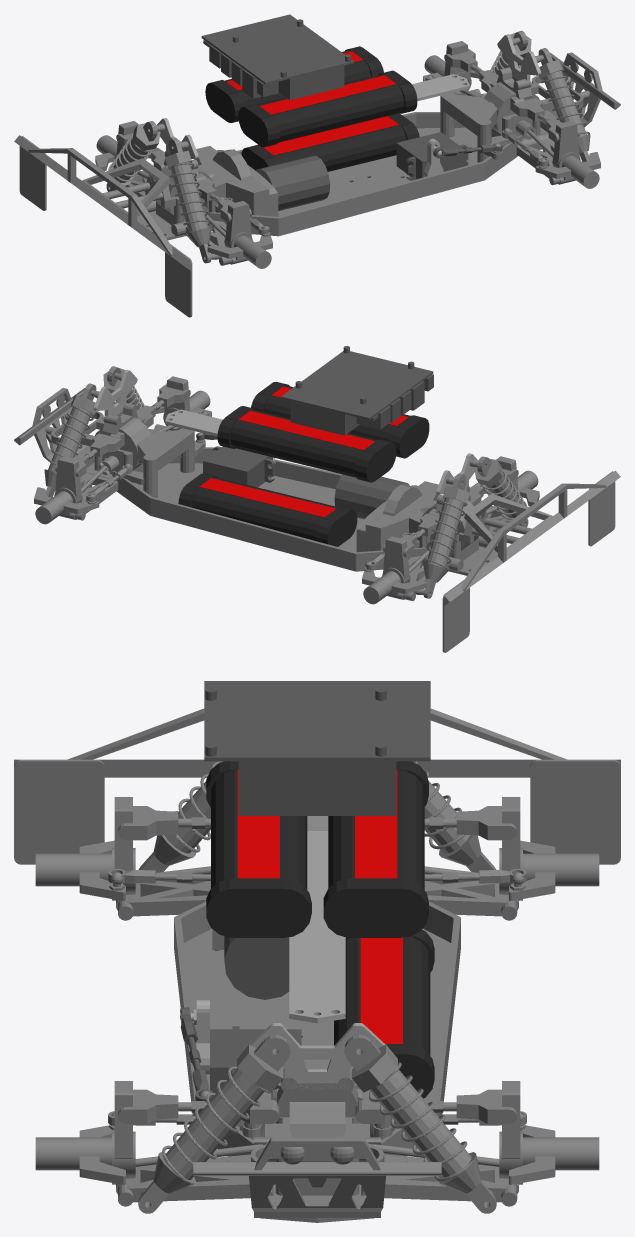
The model's file is mushr_base_nano_core.dae.
The picture shows the model from 3 angles, top to bottom: view 1: azimuth 30°, elevation 25°; view 2: azimuth 150°, elevation 25°; view 3: azimuth 270°, elevation 25°; orthographic projection. The views are drawn at different scales.
Parts seen in each view (by area): view 1: Racecar_Chassis, Racecar_Jetson_Nano, Racecar_Battery_Foundation_Right, Racecar_Battery_Chassis, Racecar_Battery_Foundation_Left, Racecar_Servo_Motor_Body, Racecar_Spring_Plates, Racecar_Crossbar_Body, Racecar_Servo_Arm_Link, Racecar_Servo_Motor_Arm; view 2: Racecar_Chassis, Racecar_Jetson_Nano, Racecar_Battery_Foundation_Left, Racecar_Battery_Chassis, Racecar_Battery_Foundation_Right, Racecar_Servo_Motor_Body, Racecar_Spring_Plates, Racecar_Crossbar_Body; view 3: Racecar_Chassis, Racecar_Jetson_Nano, Racecar_Battery_Foundation_Left, Racecar_Battery_Foundation_Right, Racecar_Battery_Chassis, Racecar_Crossbar_Body, Racecar_Spring_Plates, Racecar_Servo_Motor_Body, Racecar_Servo_Arm_Link, Racecar_Servo_Motor_Arm.
Boxes of the visible parts, x1=… form: Racecar_Chassis: x1=14, y1=30, x2=620, y2=317; Racecar_Jetson_Nano: x1=201, y1=14, x2=353, y2=100; Racecar_Battery_Foundation_Right: x1=238, y1=70, x2=417, y2=147; Racecar_Battery_Chassis: x1=241, y1=113, x2=419, y2=171; Racecar_Battery_Foundation_Left: x1=205, y1=46, x2=383, y2=122; Racecar_Servo_Motor_Body: x1=396, y1=132, x2=468, y2=180; Racecar_Spring_Plates: x1=156, y1=34, x2=541, y2=158; Racecar_Crossbar_Body: x1=412, y1=74, x2=469, y2=101; Racecar_Servo_Arm_Link: x1=433, y1=143, x2=502, y2=158; Racecar_Servo_Motor_Arm: x1=424, y1=138, x2=443, y2=176; Racecar_Chassis: x1=14, y1=366, x2=620, y2=652; Racecar_Jetson_Nano: x1=281, y1=346, x2=433, y2=435; Racecar_Battery_Foundation_Left: x1=217, y1=406, x2=396, y2=482; Racecar_Battery_Chassis: x1=178, y1=473, x2=357, y2=546; Racecar_Battery_Foundation_Right: x1=251, y1=381, x2=429, y2=458; Racecar_Servo_Motor_Body: x1=203, y1=446, x2=274, y2=487; Racecar_Spring_Plates: x1=93, y1=369, x2=478, y2=494; Racecar_Crossbar_Body: x1=165, y1=409, x2=222, y2=436; Racecar_Chassis: x1=14, y1=708, x2=620, y2=1222; Racecar_Jetson_Nano: x1=204, y1=681, x2=430, y2=815; Racecar_Battery_Foundation_Left: x1=323, y1=761, x2=428, y2=937; Racecar_Battery_Foundation_Right: x1=206, y1=761, x2=311, y2=937; Racecar_Battery_Chassis: x1=334, y1=929, x2=434, y2=1098; Racecar_Crossbar_Body: x1=289, y1=831, x2=345, y2=1023; Racecar_Spring_Plates: x1=249, y1=1023, x2=385, y2=1089; Racecar_Servo_Motor_Body: x1=210, y1=1026, x2=301, y2=1093; Racecar_Servo_Arm_Link: x1=180, y1=1007, x2=213, y2=1102; Racecar_Servo_Motor_Arm: x1=180, y1=1000, x2=209, y2=1074.
Size of the model in its own units: 0.4399 by 0.268 by 0.1472.
